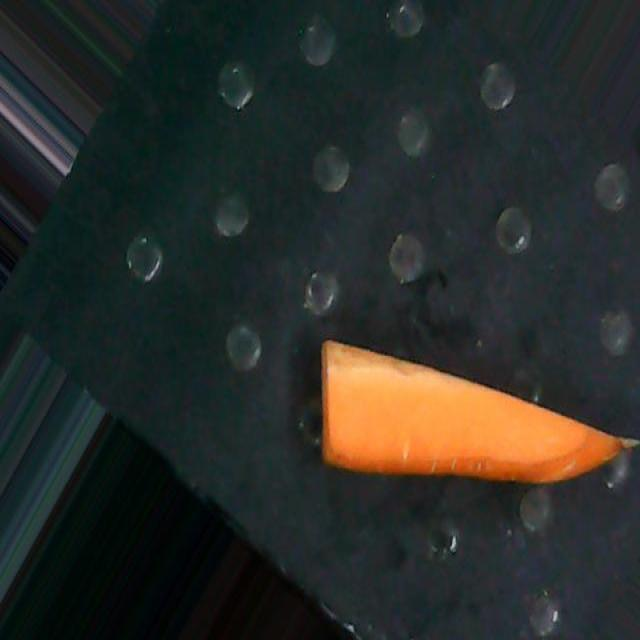-Kitchen waste - carrot-: (321, 339, 640, 483)
